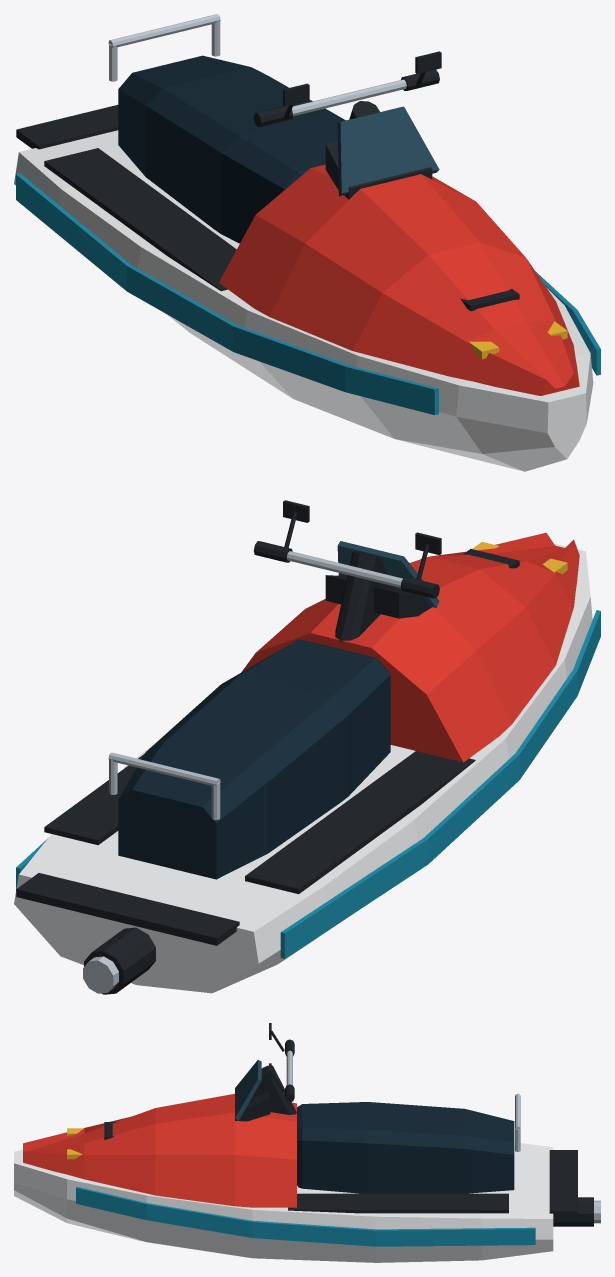
The model's file is jetski.glb.
3 views of the same model, one above another, from view 1: azimuth 30°, elevation 25°; view 2: azimuth 150°, elevation 25°; view 3: azimuth 270°, elevation 25° (orthographic). The views are drawn at different scales.
Parts seen in each view (by area): view 1: jetski; view 2: jetski; view 3: jetski.
Part boxes in pixels (left/top/right/bottom): jetski: left=14, top=14, right=600, bottom=471; jetski: left=14, top=500, right=600, bottom=994; jetski: left=14, top=1023, right=600, bottom=1262.
Bounding box in the file's own units: 1.23 × 1.27 × 3.32.
